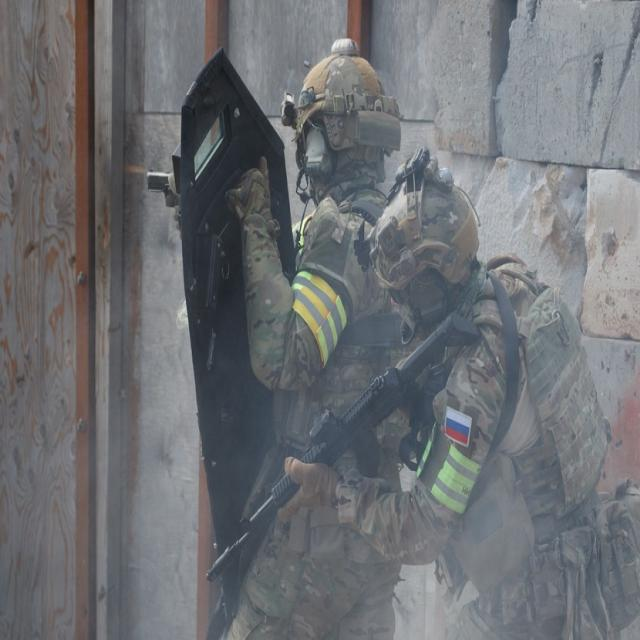firearm: (206, 314, 484, 580)
pistol: (148, 172, 172, 193)
